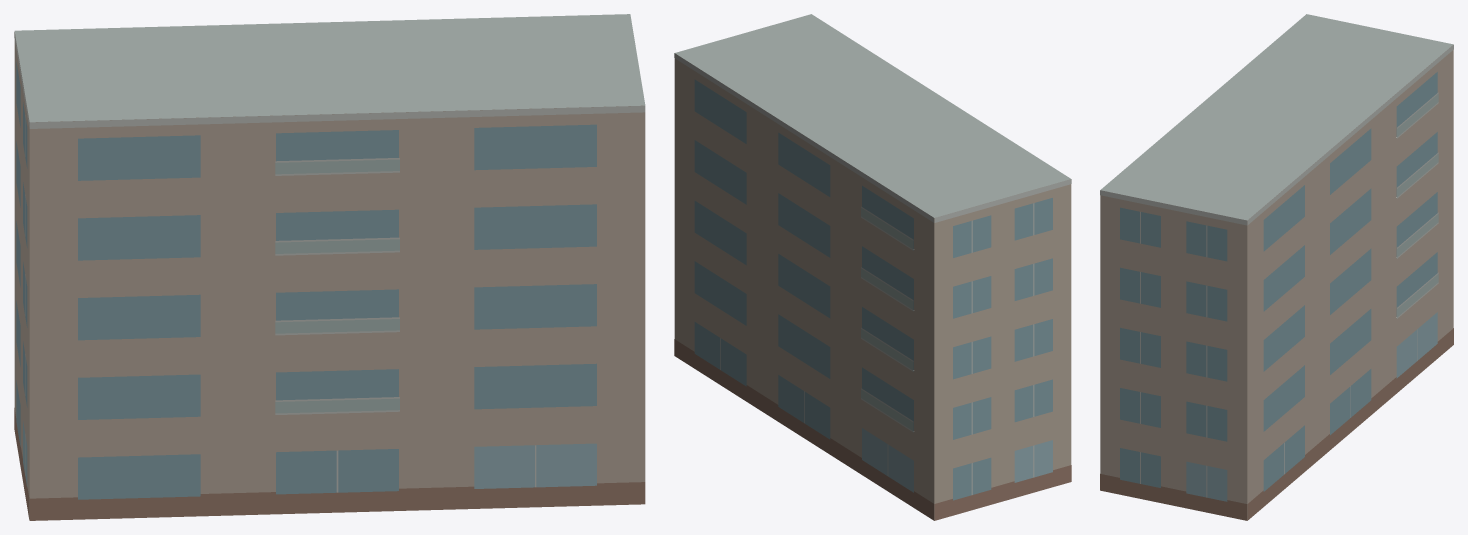
The model's file is survey-upis-32949498.glb.
3 renders of one model, left to right at view 1: azimuth 30°, elevation 25°; view 2: azimuth 150°, elevation 25°; view 3: azimuth 270°, elevation 25°, orthographic. The views are drawn at different scales.
Parts seen in each view (by area): view 1: survey-upis-32949498.tmp; view 2: survey-upis-32949498.tmp; view 3: survey-upis-32949498.tmp.
Boxes of the visible parts, bbox=[...] form: survey-upis-32949498.tmp: bbox=[14, 14, 645, 520]; survey-upis-32949498.tmp: bbox=[674, 14, 1071, 520]; survey-upis-32949498.tmp: bbox=[1100, 14, 1453, 520].
Size of the model in its own units: 21.24 by 14.4 by 15.37.
